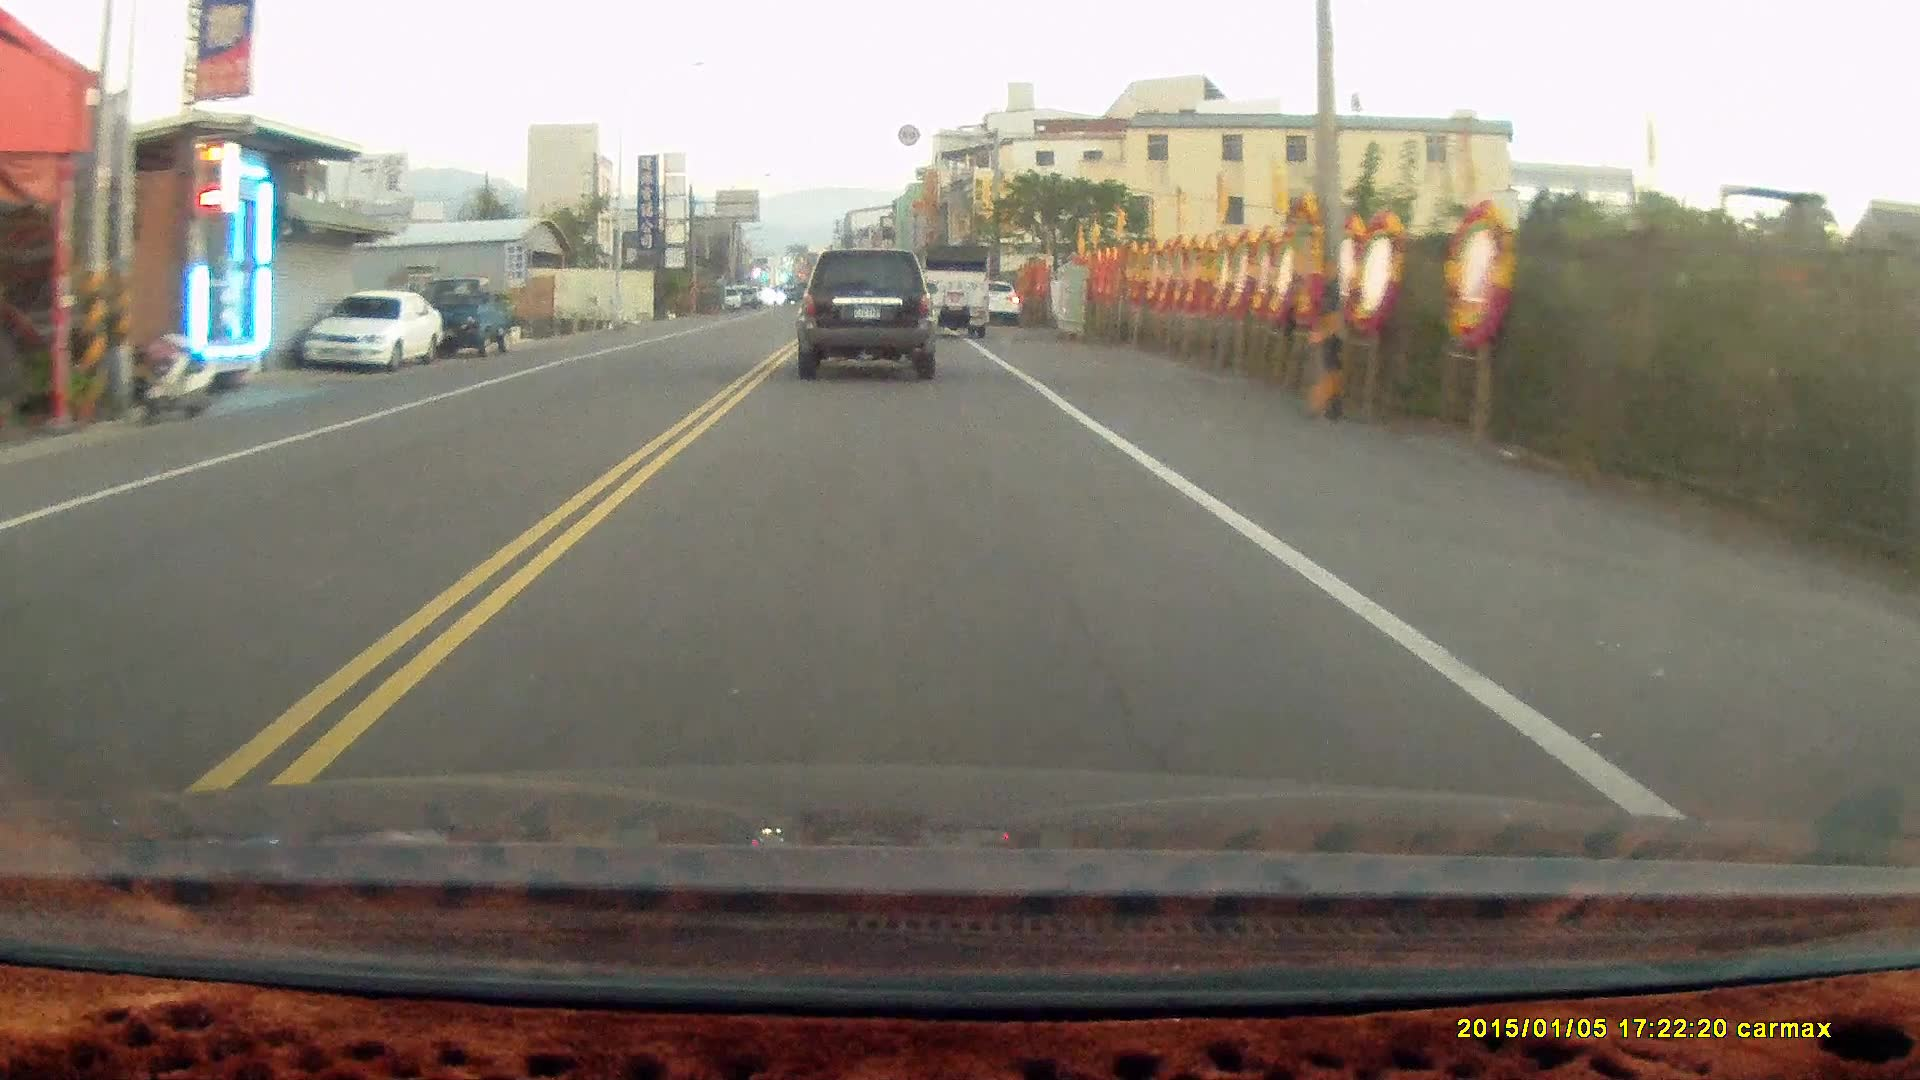vehicle: (800, 247, 942, 381), (305, 287, 446, 372), (421, 276, 522, 360), (918, 244, 994, 342)
